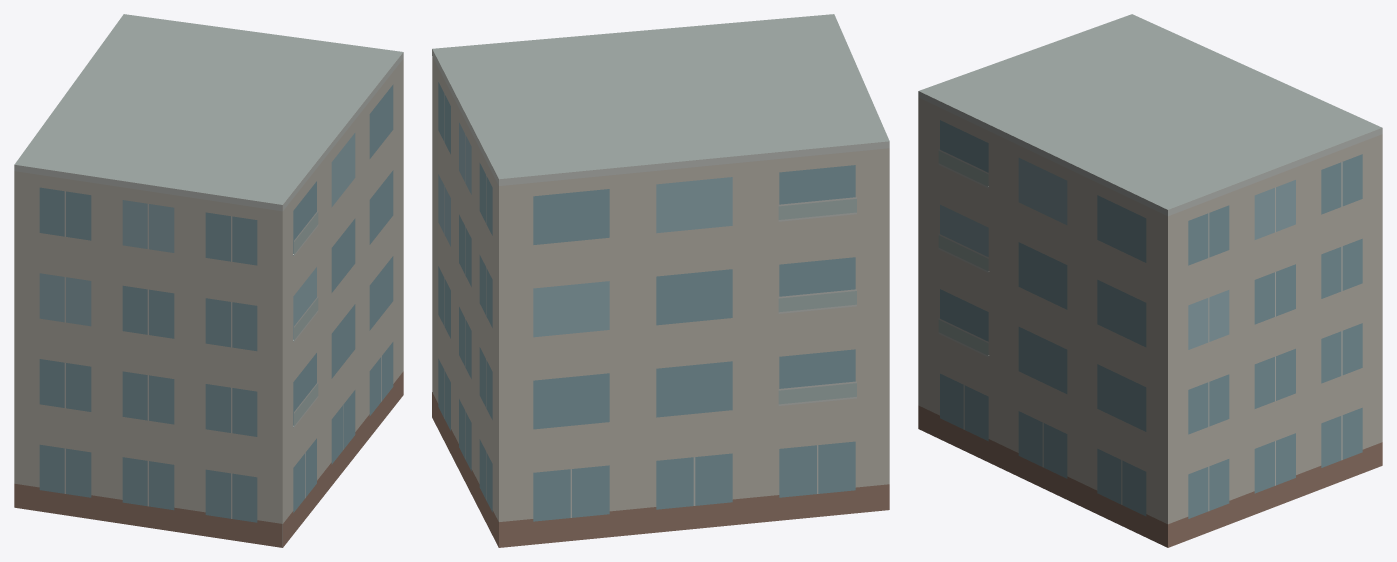
Rendered from survey-upis-32748301.glb.
3 views of the same model, side by side, from view 1: azimuth 30°, elevation 25°; view 2: azimuth 150°, elevation 25°; view 3: azimuth 270°, elevation 25° (orthographic). The views are drawn at different scales.
Parts seen in each view (by area): view 1: survey-upis-32748301.tmp; view 2: survey-upis-32748301.tmp; view 3: survey-upis-32748301.tmp.
Boxes of the visible parts, <box> form: survey-upis-32748301.tmp: <box>14,14,403,547</box>; survey-upis-32748301.tmp: <box>432,14,889,547</box>; survey-upis-32748301.tmp: <box>918,14,1382,547</box>.
Bounding box in the file's own units: 16.17 × 13 × 16.19.
